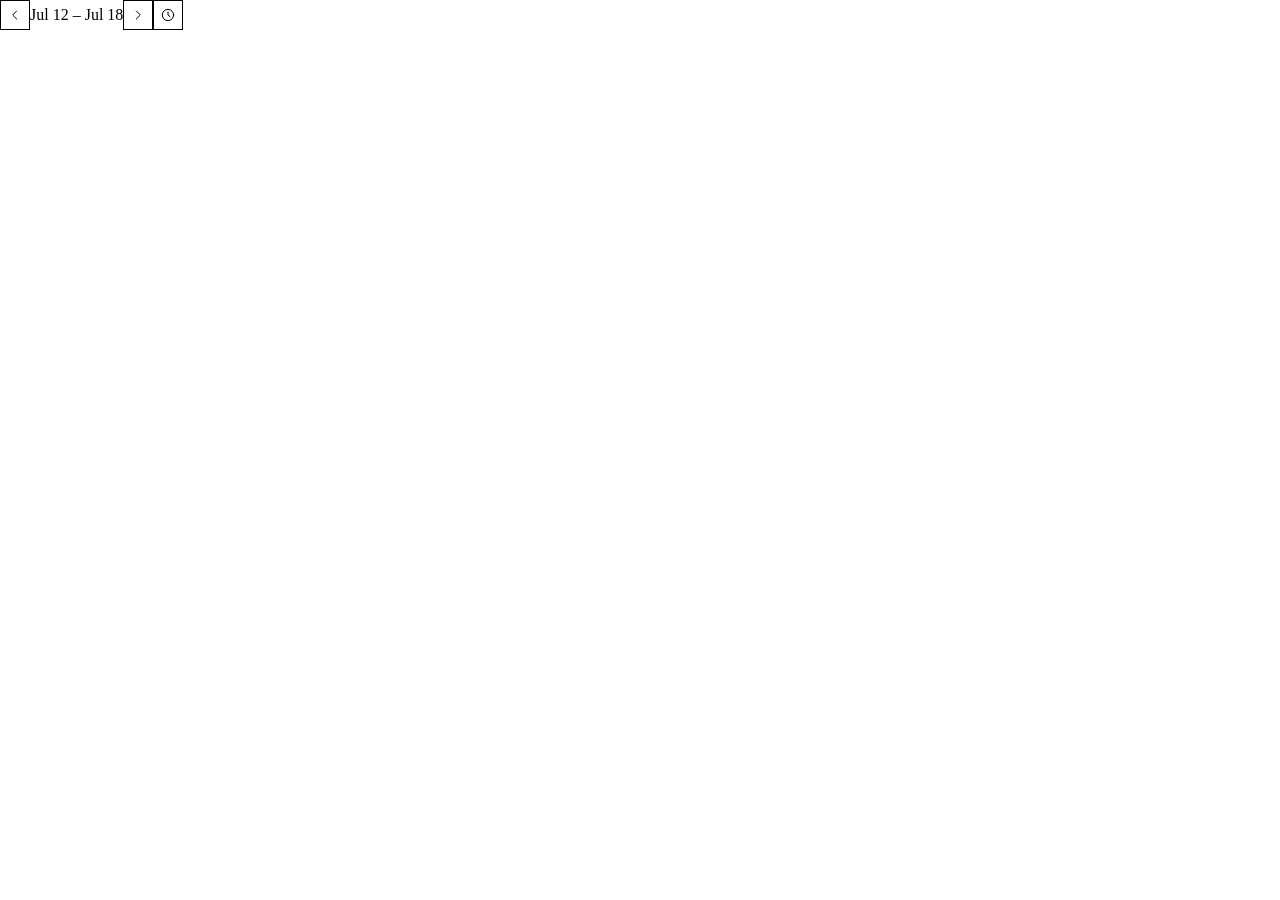
Test case: DateTimeRangePicker — min/max and keyboard › disables day cells outside min/max
The width and height of the screenshot is (1280, 900).
Click the button with aria-label "Selected date range": (77, 15) x1=30 y1=0 x2=123 y2=30
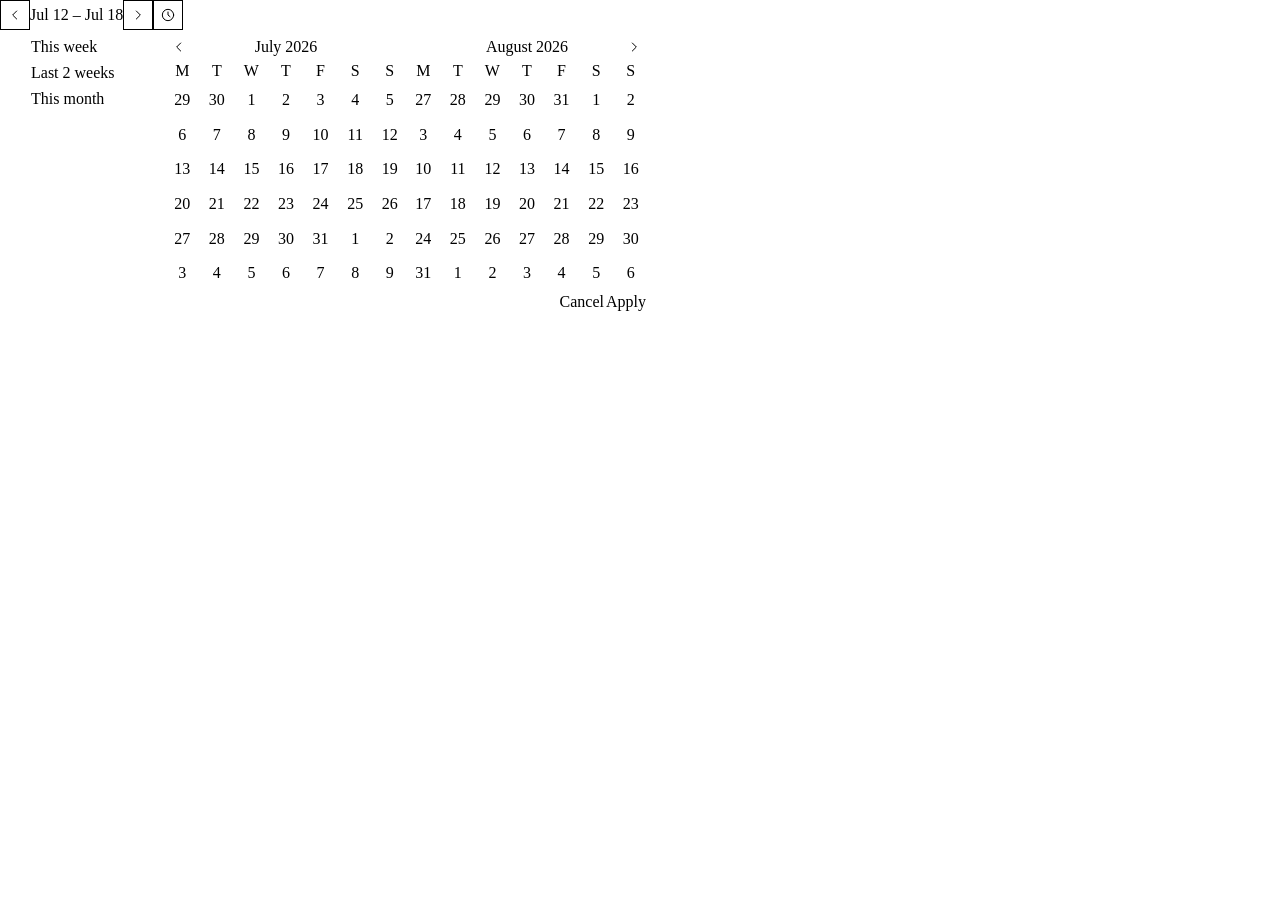
Result: the cell named "July 5, 2026" is disabled at x1=374 y1=84 x2=406 y2=117
Result: the cell named "July 25, 2026" is disabled at x1=339 y1=188 x2=372 y2=220
Result: the cell named "July 15, 2026" is enabled at x1=235 y1=153 x2=268 y2=186
